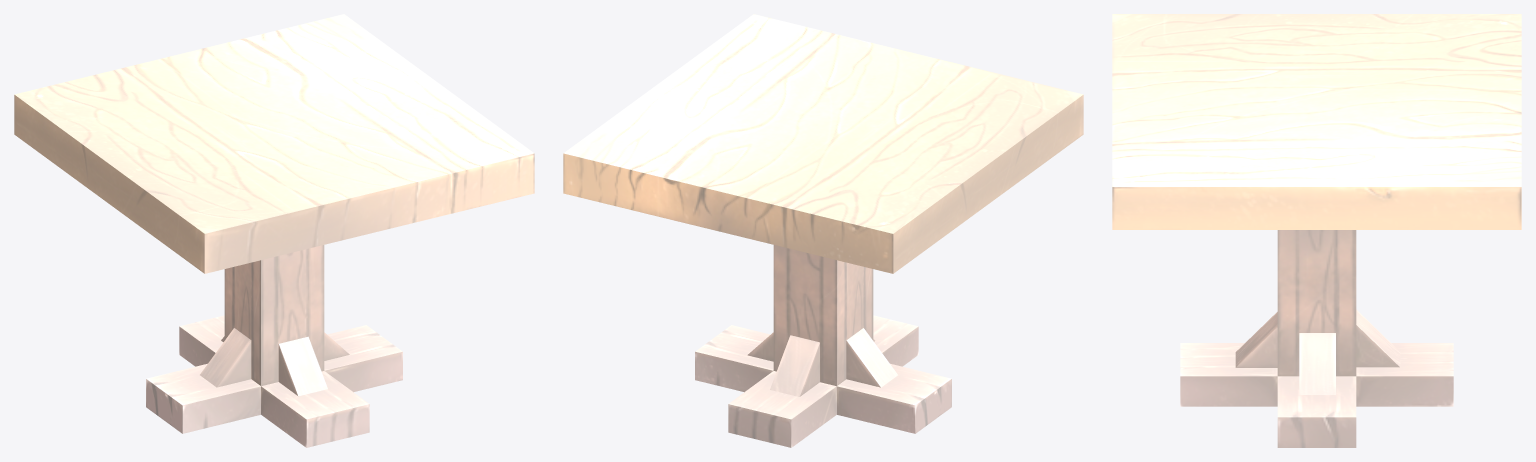
The model's file is mesa.glb.
3 renders of one model, left to right at view 1: azimuth 30°, elevation 25°; view 2: azimuth 150°, elevation 25°; view 3: azimuth 270°, elevation 25°, orthographic. The views are drawn at different scales.
Parts seen in each view (by area): view 1: Mesa; view 2: Mesa; view 3: Mesa.
Part boxes in pixels (<box>): Mesa: <box>14,14,534,447</box>; Mesa: <box>563,14,1083,447</box>; Mesa: <box>1112,14,1521,447</box>.
Size of the model in its own units: 6 by 4.69 by 6.
